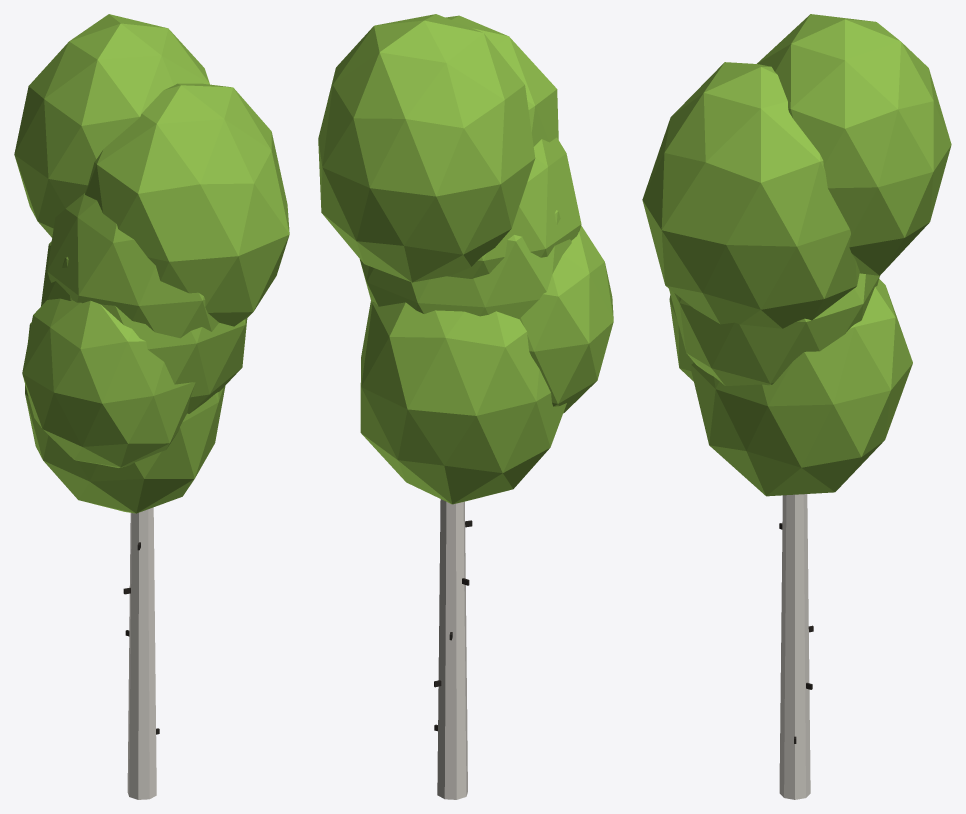
File: baum_birke.glb
3 views of the same model, side by side, from view 1: azimuth 30°, elevation 25°; view 2: azimuth 150°, elevation 25°; view 3: azimuth 270°, elevation 25° (orthographic). The views are drawn at different scales.
Parts seen in each view (by area): view 1: krone.004, krone.005, krone.001, krone.003, krone, stamm, krone.002; view 2: krone.005, krone, krone.001, stamm, krone.002, krone.003, krone.004; view 3: krone.004, krone.005, krone, krone.002, stamm, krone.001.
Part boxes in pixels (x1=…): krone.004: x1=85, y1=83, x2=289, y2=326; krone.005: x1=14, y1=14, x2=209, y2=237; krone.001: x1=22, y1=298, x2=195, y2=467; krone.003: x1=47, y1=193, x2=218, y2=338; krone: x1=25, y1=322, x2=225, y2=513; stamm: x1=127, y1=507, x2=156, y2=799; krone.002: x1=41, y1=241, x2=247, y2=413; krone.005: x1=318, y1=14, x2=535, y2=282; krone: x1=360, y1=301, x2=566, y2=504; krone.001: x1=519, y1=225, x2=613, y2=413; stamm: x1=437, y1=499, x2=467, y2=799; krone.002: x1=359, y1=210, x2=571, y2=319; krone.003: x1=447, y1=137, x2=581, y2=278; krone.004: x1=445, y1=15, x2=558, y2=146; krone.004: x1=642, y1=62, x2=859, y2=328; krone.005: x1=757, y1=14, x2=951, y2=275; krone: x1=690, y1=279, x2=912, y2=496; krone.002: x1=669, y1=273, x2=879, y2=385; stamm: x1=779, y1=494, x2=810, y2=799; krone.001: x1=669, y1=295, x2=693, y2=381.
Bounding box in the file's own units: 2.57 × 7.69 × 2.78.
